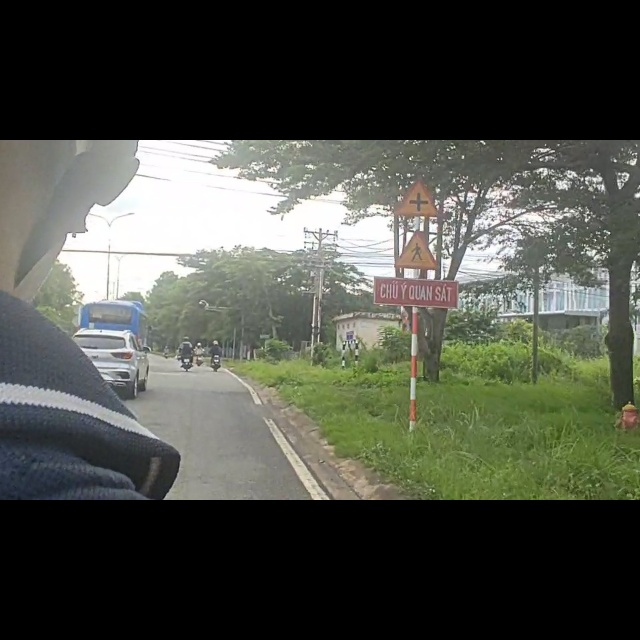bien_nguy_hiem: (388, 158, 447, 231), (394, 69, 443, 141)
